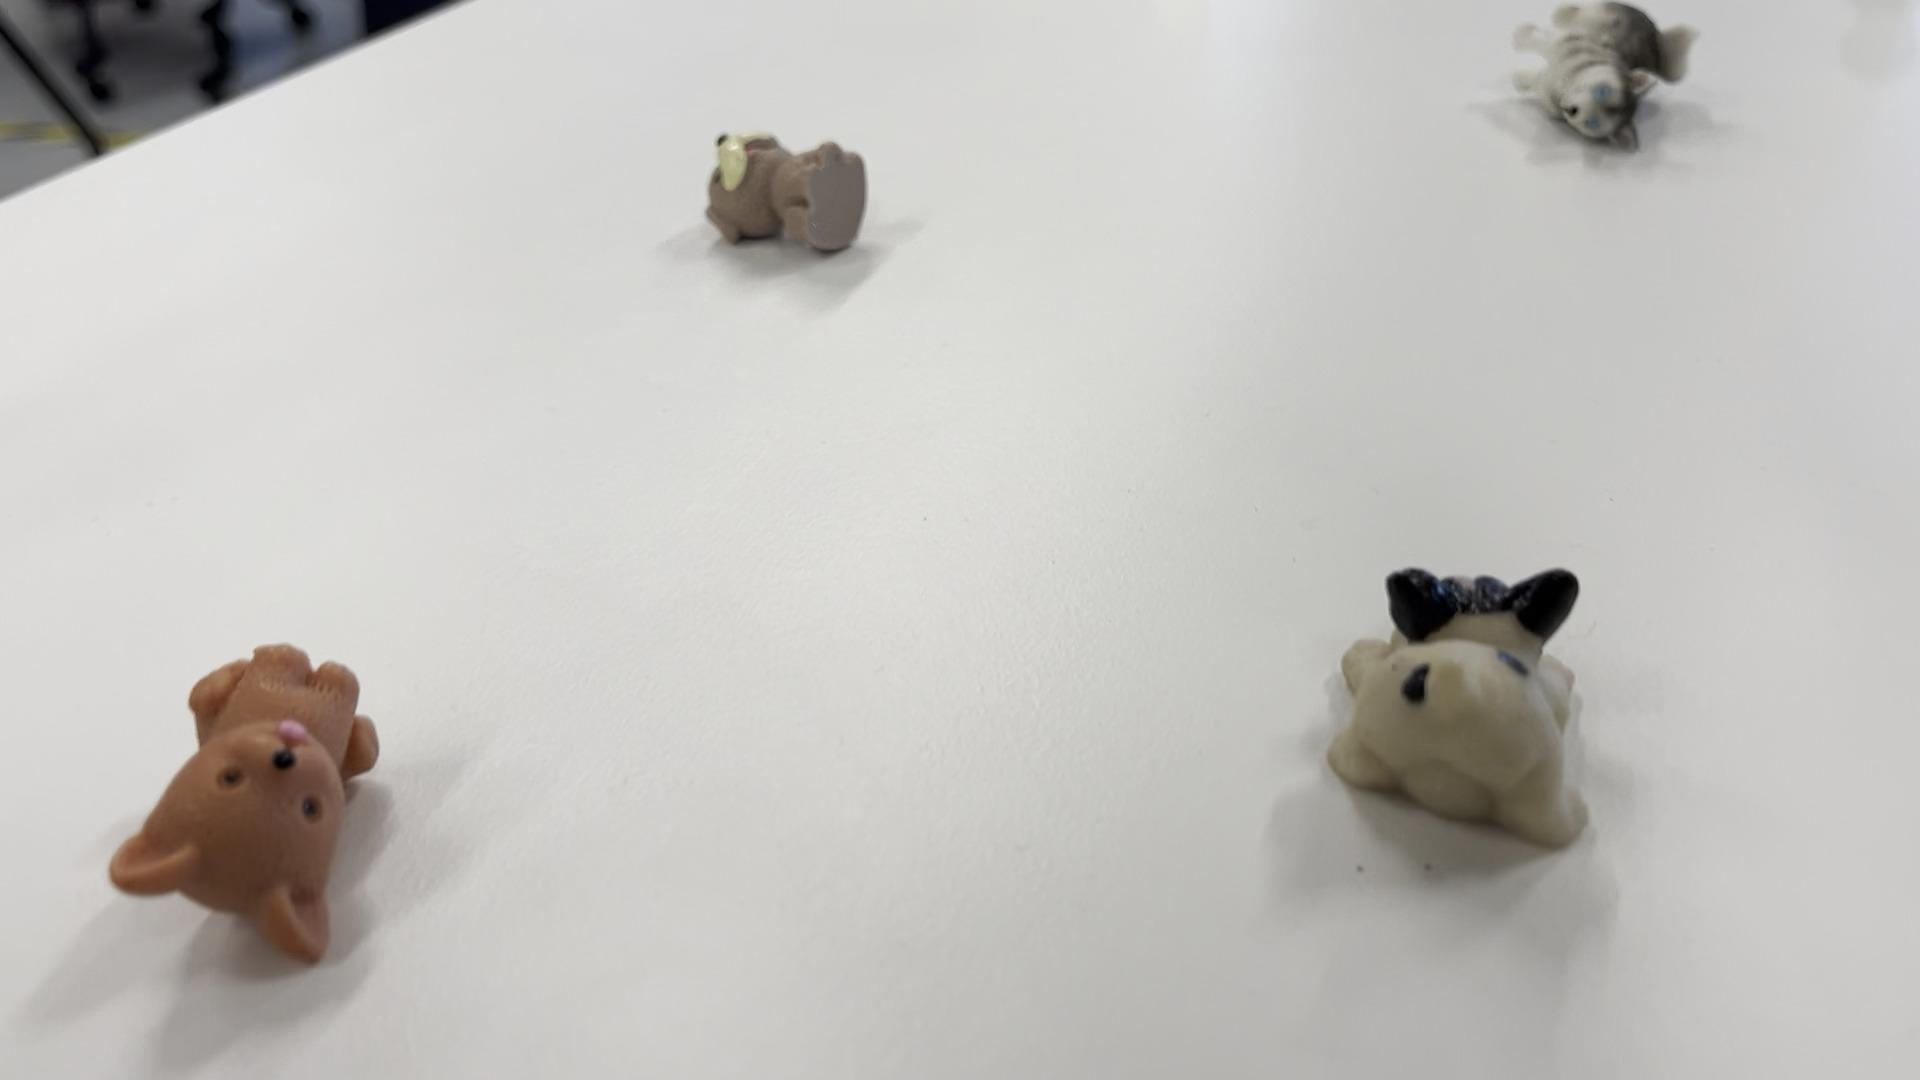pet: (103, 630, 388, 971), (1328, 553, 1601, 862), (1503, 0, 1702, 160), (696, 112, 876, 273)
